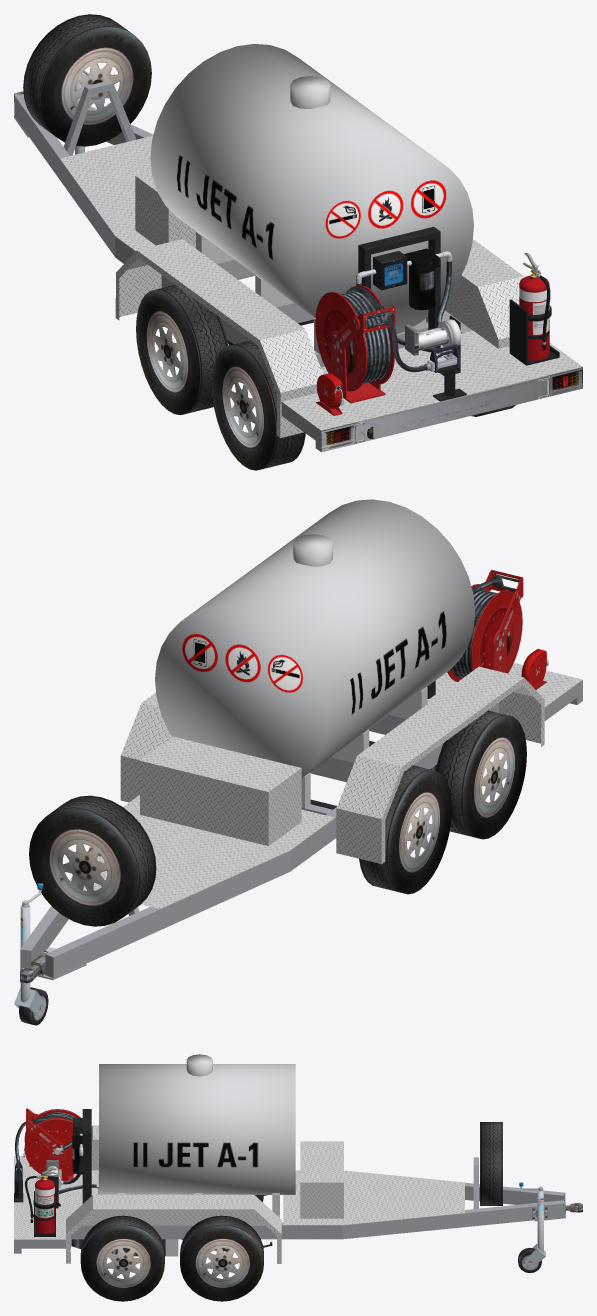
Rendered from fuel-trailer2-5m-cbj_LOD00.gltf.
3 renders of one model, top to bottom at view 1: azimuth 30°, elevation 25°; view 2: azimuth 150°, elevation 25°; view 3: azimuth 270°, elevation 25°, orthographic. The views are drawn at different scales.
Parts seen in each view (by area): view 1: fuel-trailer2-0; view 2: fuel-trailer2-0; view 3: fuel-trailer2-0.
Boxes of the visible parts, left/top/right/bottom form: fuel-trailer2-0: left=14, top=14, right=582, bottom=470; fuel-trailer2-0: left=14, top=499, right=582, bottom=1025; fuel-trailer2-0: left=14, top=1054, right=582, bottom=1301.
Size of the model in its own units: 1.83 by 2.04 by 5.21.
